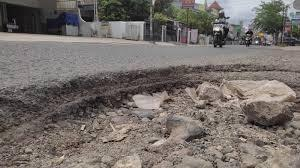Pothole: (1, 65, 300, 168)
